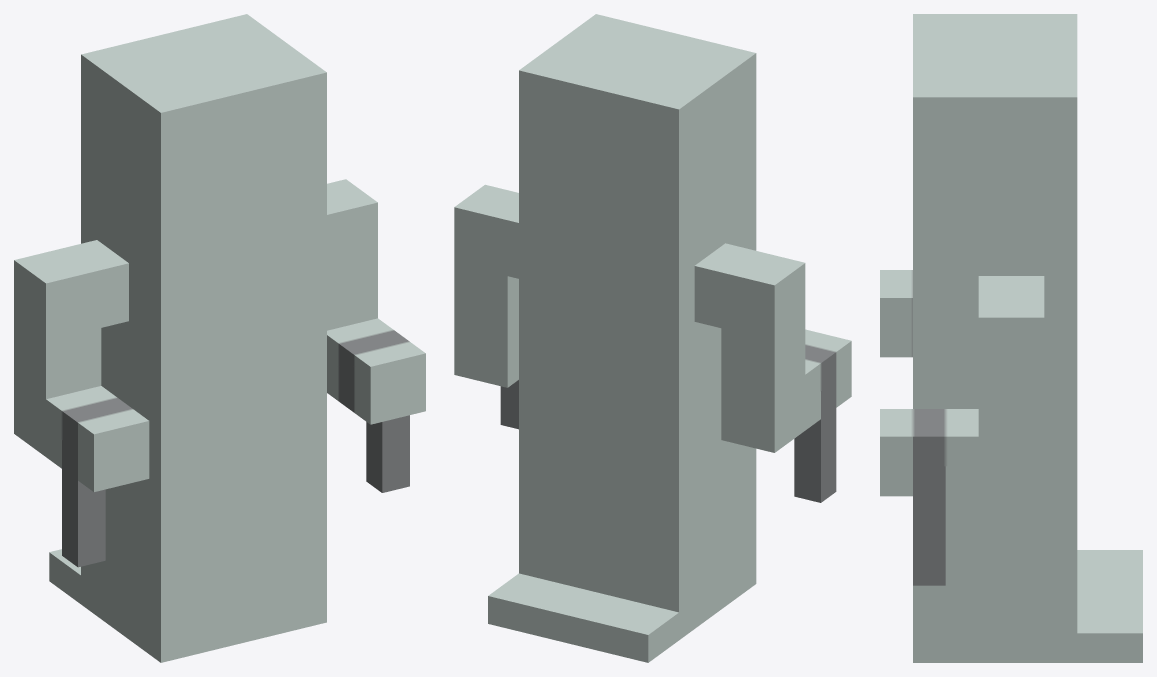
Rendered from Ghost.fbx.
3 renders of one model, left to right at view 1: azimuth 30°, elevation 25°; view 2: azimuth 150°, elevation 25°; view 3: azimuth 270°, elevation 25°, orthographic. The views are drawn at different scales.
Parts seen in each view (by area): view 1: Ghost_With_Chains; view 2: Ghost_With_Chains; view 3: Ghost_With_Chains.
Part boxes in pixels (<box>): Ghost_With_Chains: <box>14,14,425,662</box>; Ghost_With_Chains: <box>454,14,851,662</box>; Ghost_With_Chains: <box>880,14,1142,662</box>.
Bounding box in the file's own units: 66 × 104 × 44.
